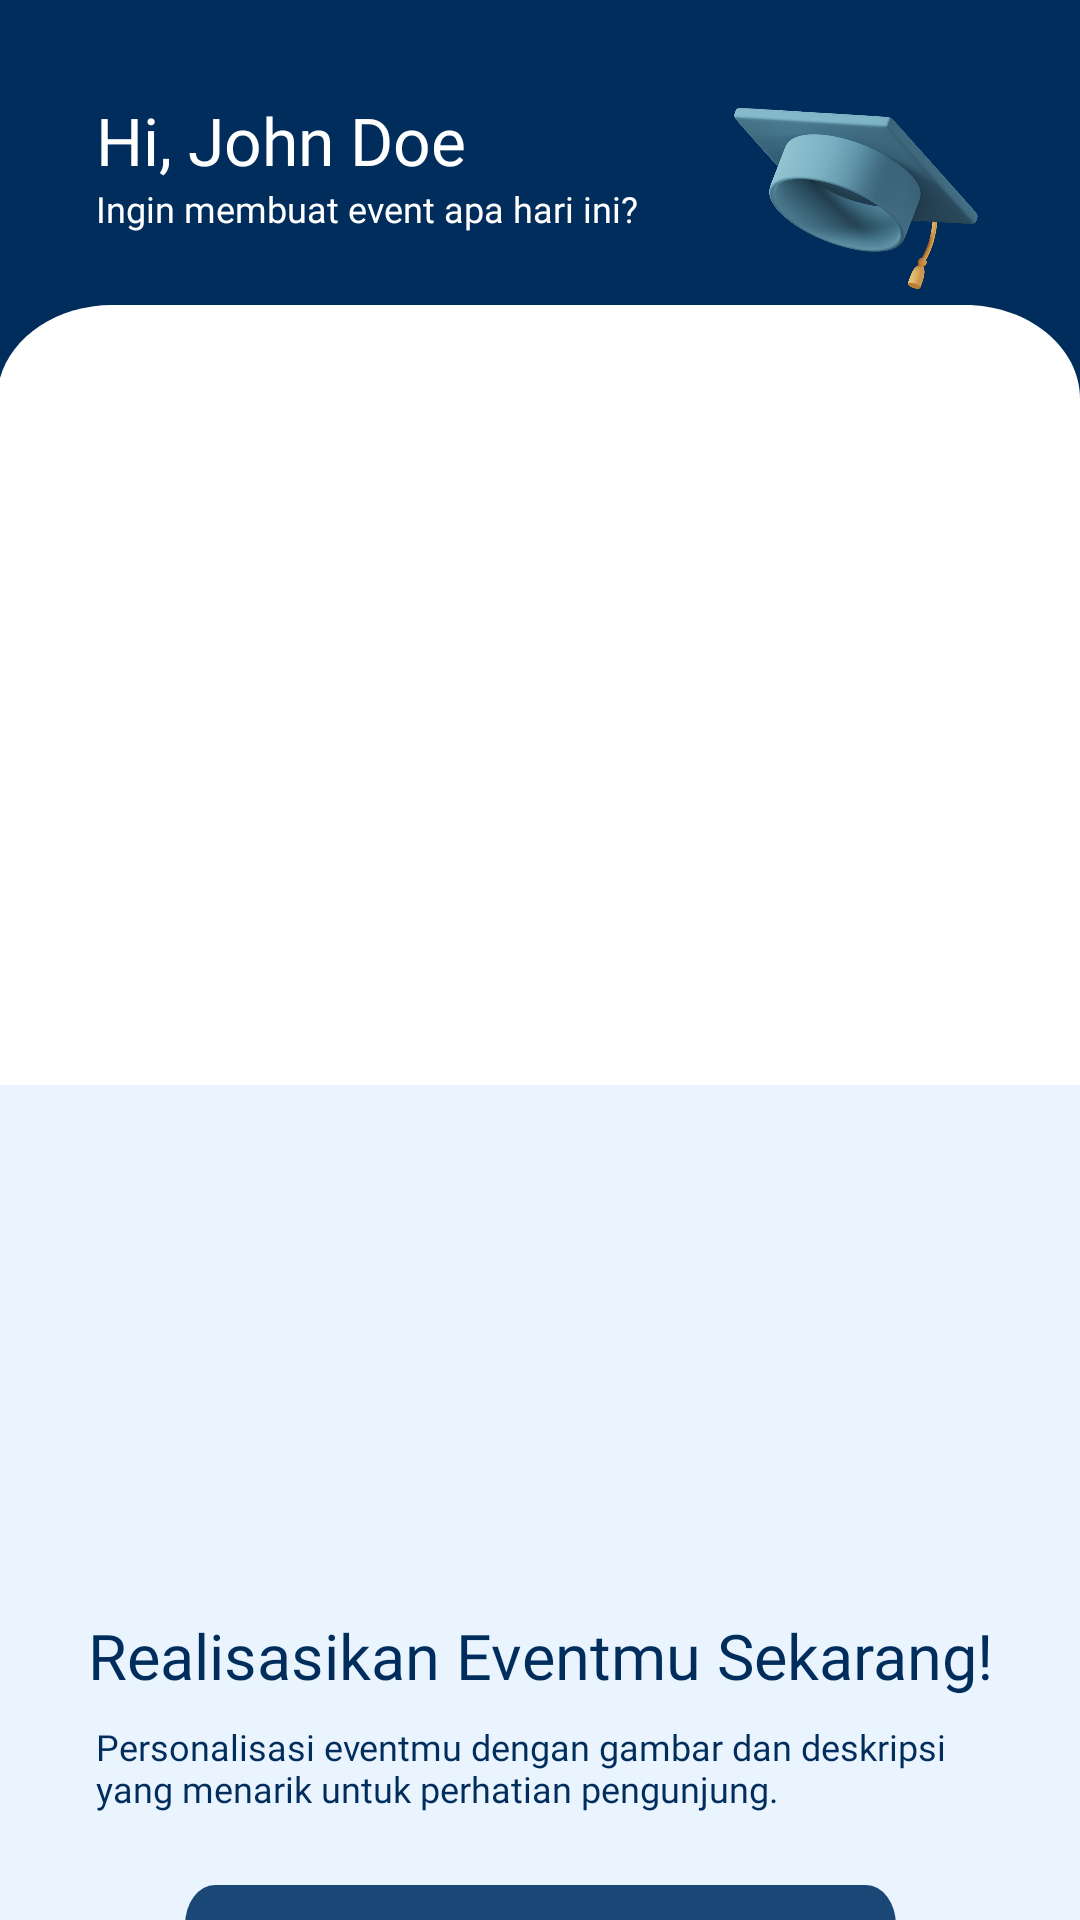

Icons on this 1080x1920 Android screen, each with its box as (x1, y1, x2, y2):
cartoon 3d hat: (734, 108, 978, 289)
